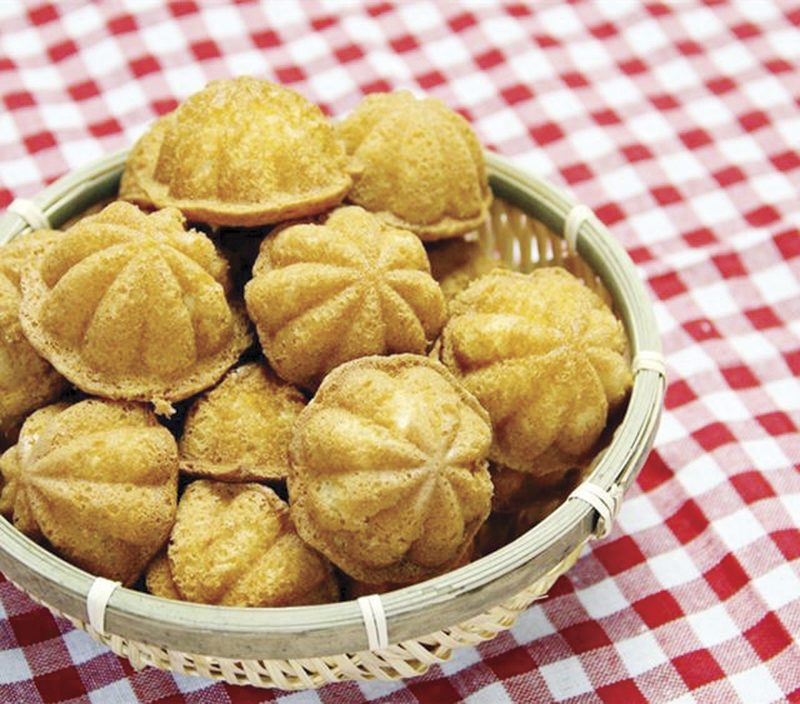kanomkai: (15, 182, 262, 414), (283, 353, 504, 599), (439, 250, 647, 487), (126, 73, 358, 238), (246, 204, 446, 393)
